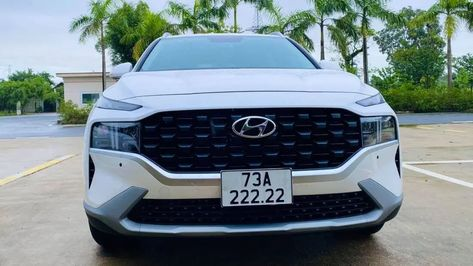number-plate: (223, 170, 291, 204)
